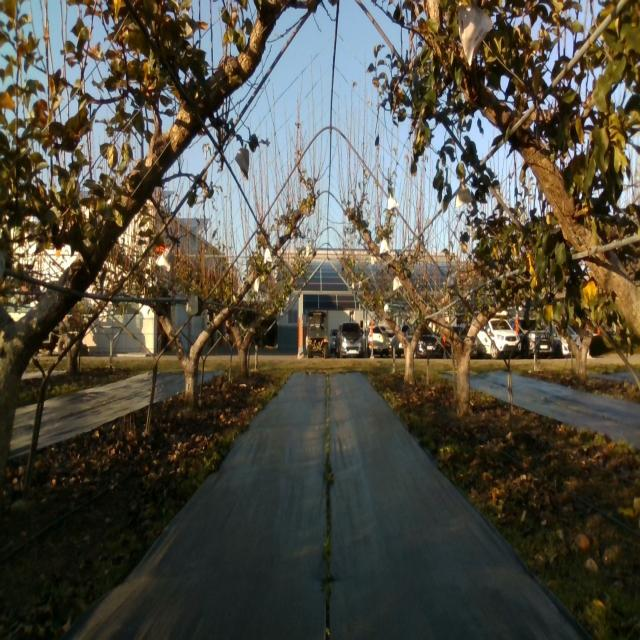pearbags: (458, 6, 494, 63), (234, 144, 250, 182), (155, 246, 175, 272), (454, 185, 472, 209)
